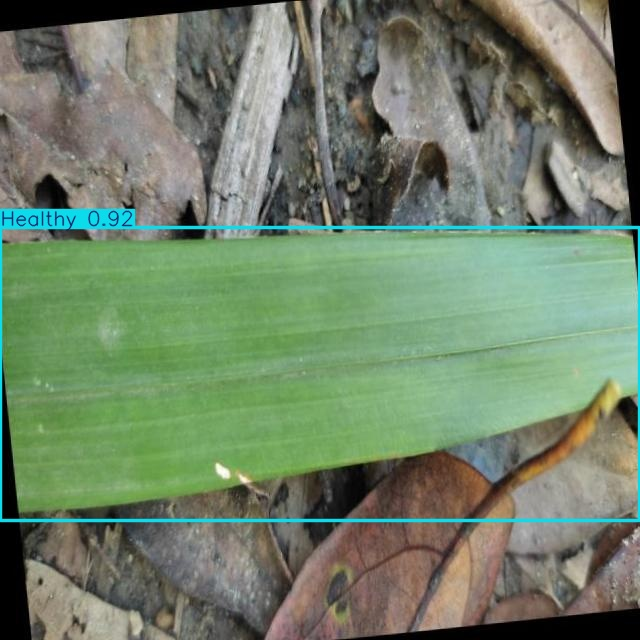Healthy: (1, 227, 640, 521)
